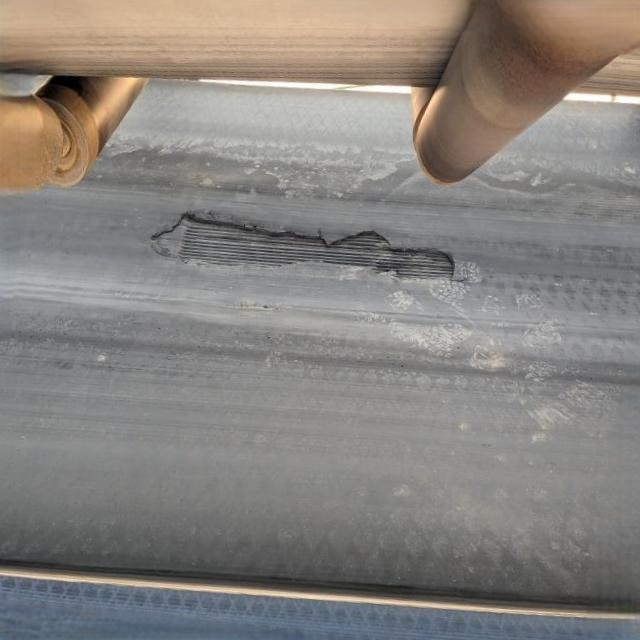Tear: (141, 204, 460, 294)
